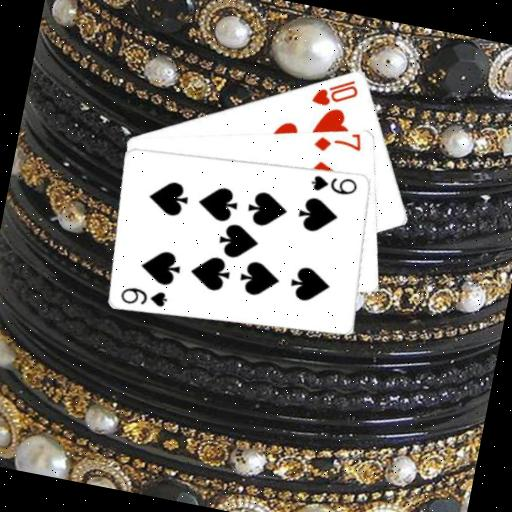10H: (308, 69, 362, 113)
7D: (311, 124, 366, 160)
9S: (307, 168, 361, 200), (117, 280, 171, 312)
